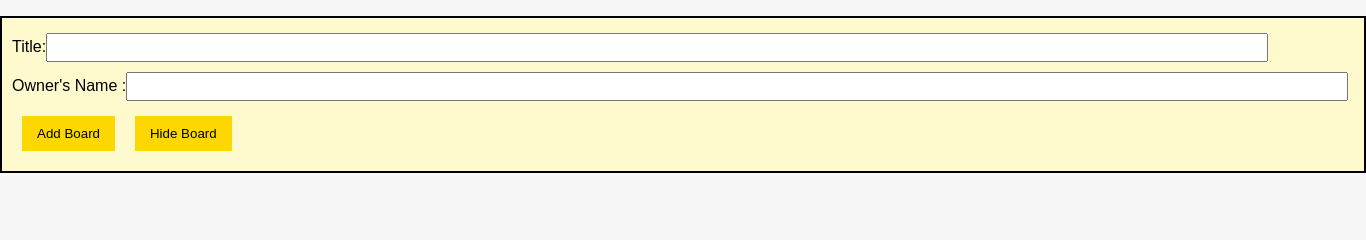
Test: NewBoardForm Component › validates empty fields
Click the button "Add Board".
click(68, 134)  # box [22,116,115,151]
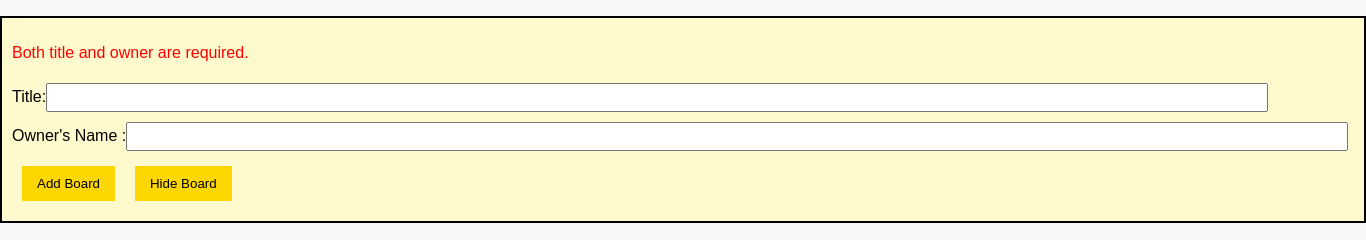
Now the text "Both title and owner are required." is shown, box [12,44,249,61]
